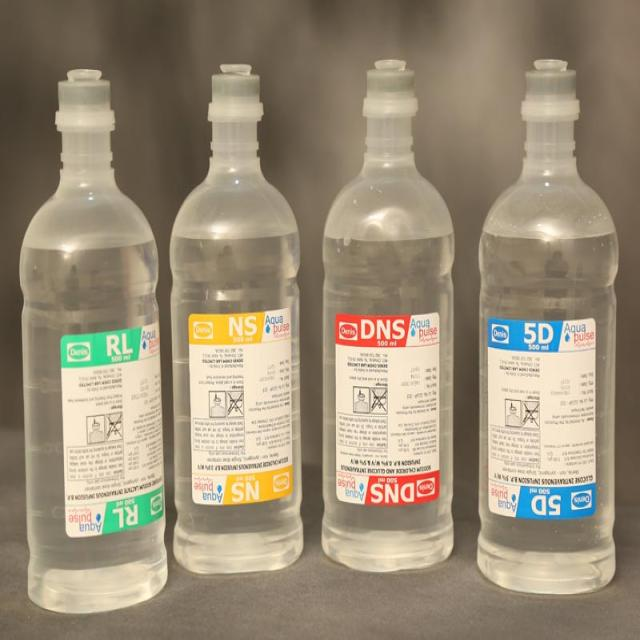B3: (14, 42, 170, 617), (474, 54, 620, 598), (319, 53, 463, 599), (171, 45, 310, 586)
